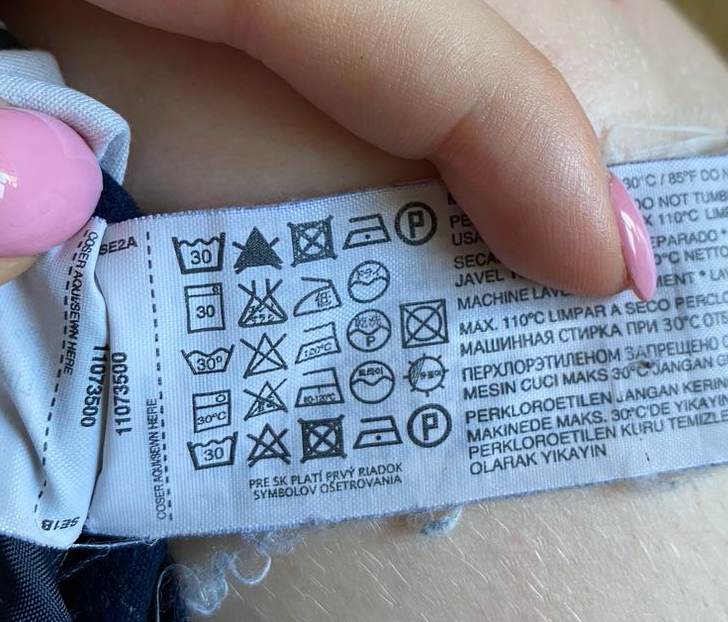do_not_bleach: (230, 222, 284, 278), (239, 328, 294, 380), (238, 374, 292, 424), (243, 421, 294, 472)
do_not_tumble_drying: (284, 213, 341, 270), (296, 411, 351, 466), (397, 299, 454, 348)
dry_clean_tetrachloroethylene_pce_only: (405, 402, 455, 449), (394, 198, 440, 247)
ironing_at_low_temp: (340, 208, 393, 253), (350, 412, 405, 452)
wash_at_or_below_30: (168, 228, 227, 275), (184, 428, 240, 471), (176, 342, 236, 377)
